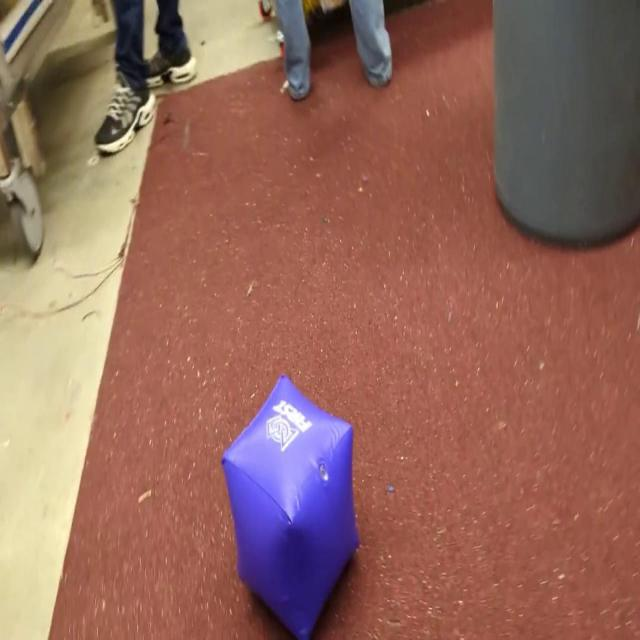frc_cube: (218, 372, 362, 640)
